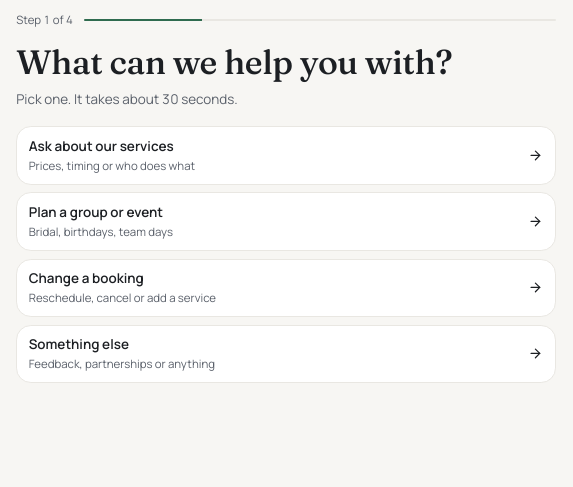
StorefrontEnquiryForm › sends the visitor’s answers with a normalised Kenyan number
Click the button "Ask about our services Prices, timing or who does what". click: (101, 146)
box: [16,126,556,185]
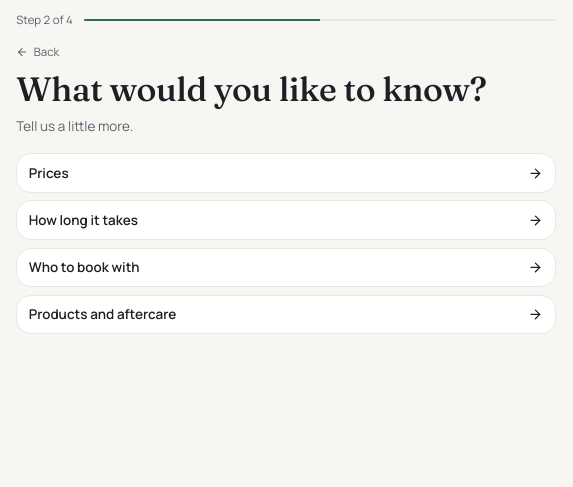
Click the button "Prices". click: (49, 173)
box: [16,153,556,193]
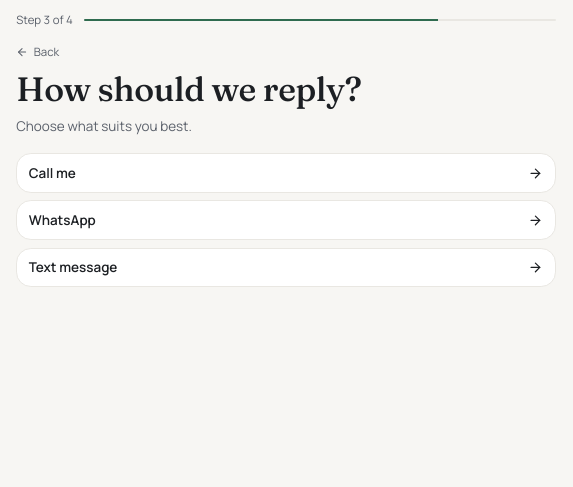
Click the button "Call me". click: (52, 173)
box: [16,153,556,193]
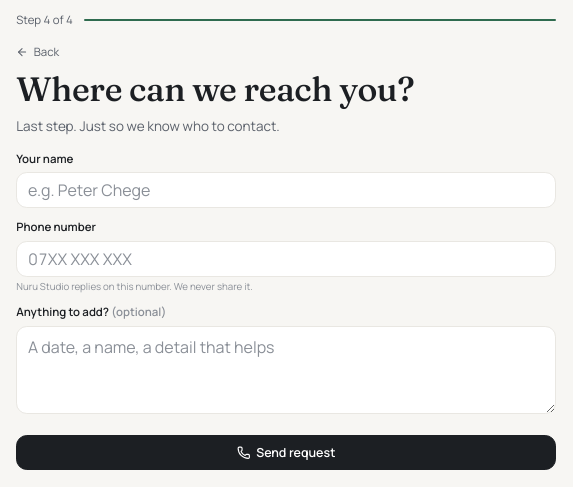
Type "Peter Chege" into the field labelled "Your name". click: (286, 190)
box: [16,172,556,208]
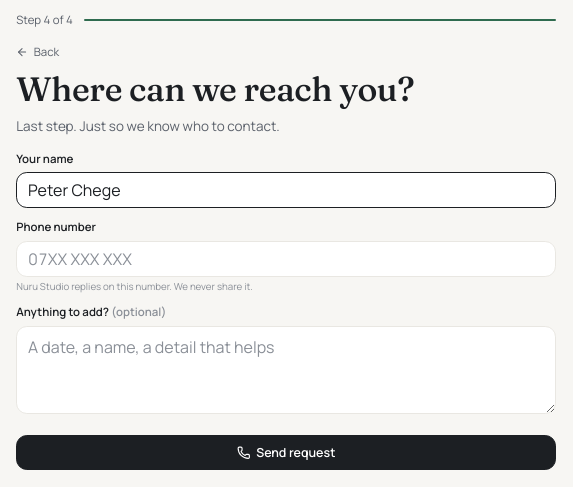
Type "0712 345 678" into the field labelled "Phone number". click: (286, 259)
box: [16,241,556,277]
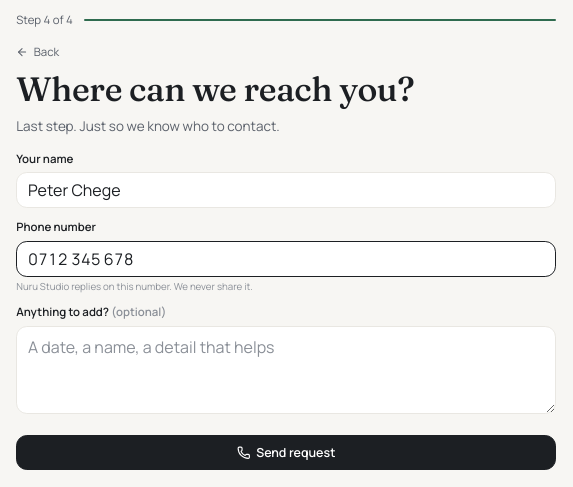
Click the button "Send request". click: (286, 453)
box: [16,435,556,470]
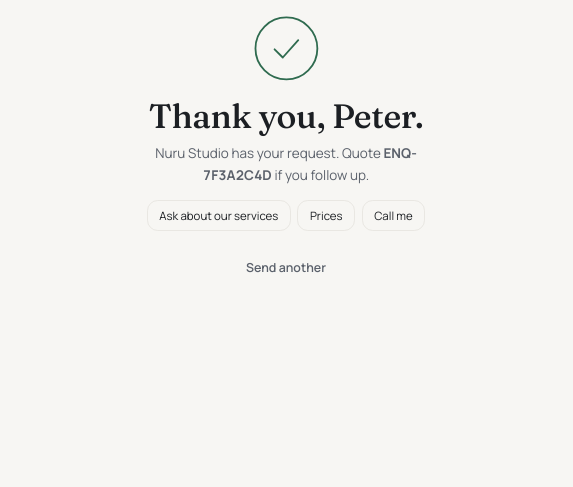
Result: the text "ENQ-7F3A2C4D" is shown at [203,144,417,184]
Result: the text "has your request" is shown at [229,144,384,162]
